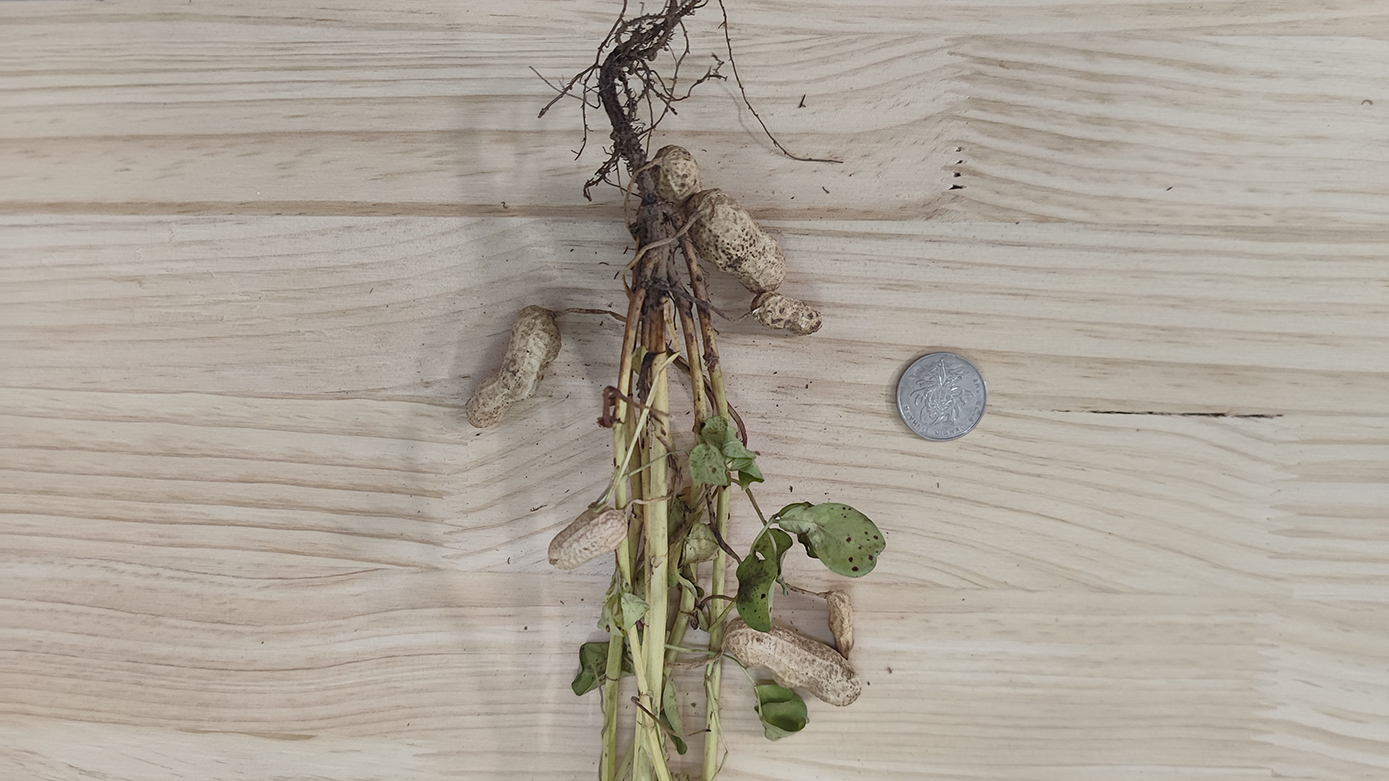h: (724, 618, 863, 710), (463, 306, 562, 427), (687, 190, 786, 290), (548, 502, 629, 571), (753, 294, 823, 333), (654, 143, 700, 202)
